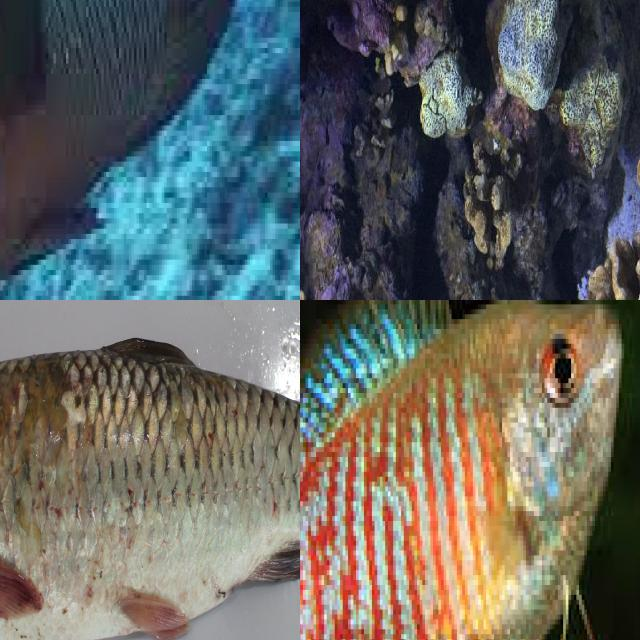fish: (0, 318, 300, 640), (313, 300, 584, 640), (0, 0, 300, 300)
